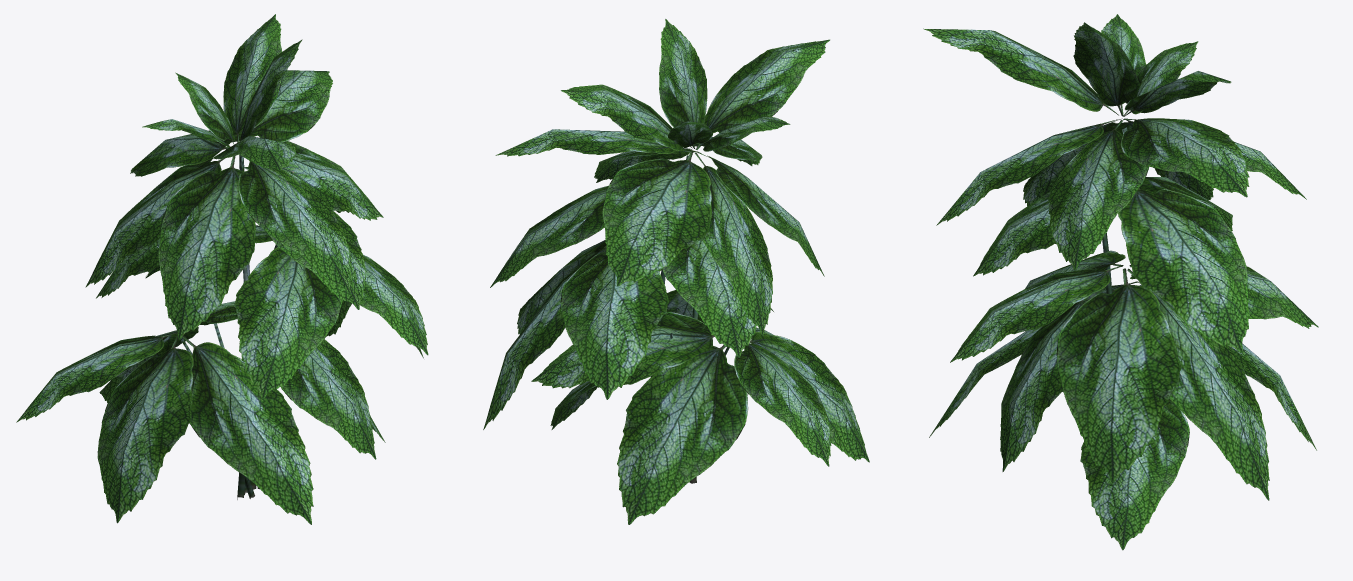
File: m_grass06.fbx
The picture shows the model from 3 angles, left to right: view 1: azimuth 30°, elevation 25°; view 2: azimuth 150°, elevation 25°; view 3: azimuth 270°, elevation 25°; orthographic projection. The views are drawn at different scales.
Visible parts, largest first — view 1: m_grass06; view 2: m_grass06; view 3: m_grass06.
Boxes of the visible parts, x1,y1,x2,y2 form: m_grass06: [16, 14, 428, 524]; m_grass06: [483, 19, 869, 524]; m_grass06: [923, 14, 1318, 550].
Bounding box in the file's own units: 2.11 × 2.52 × 1.98.
